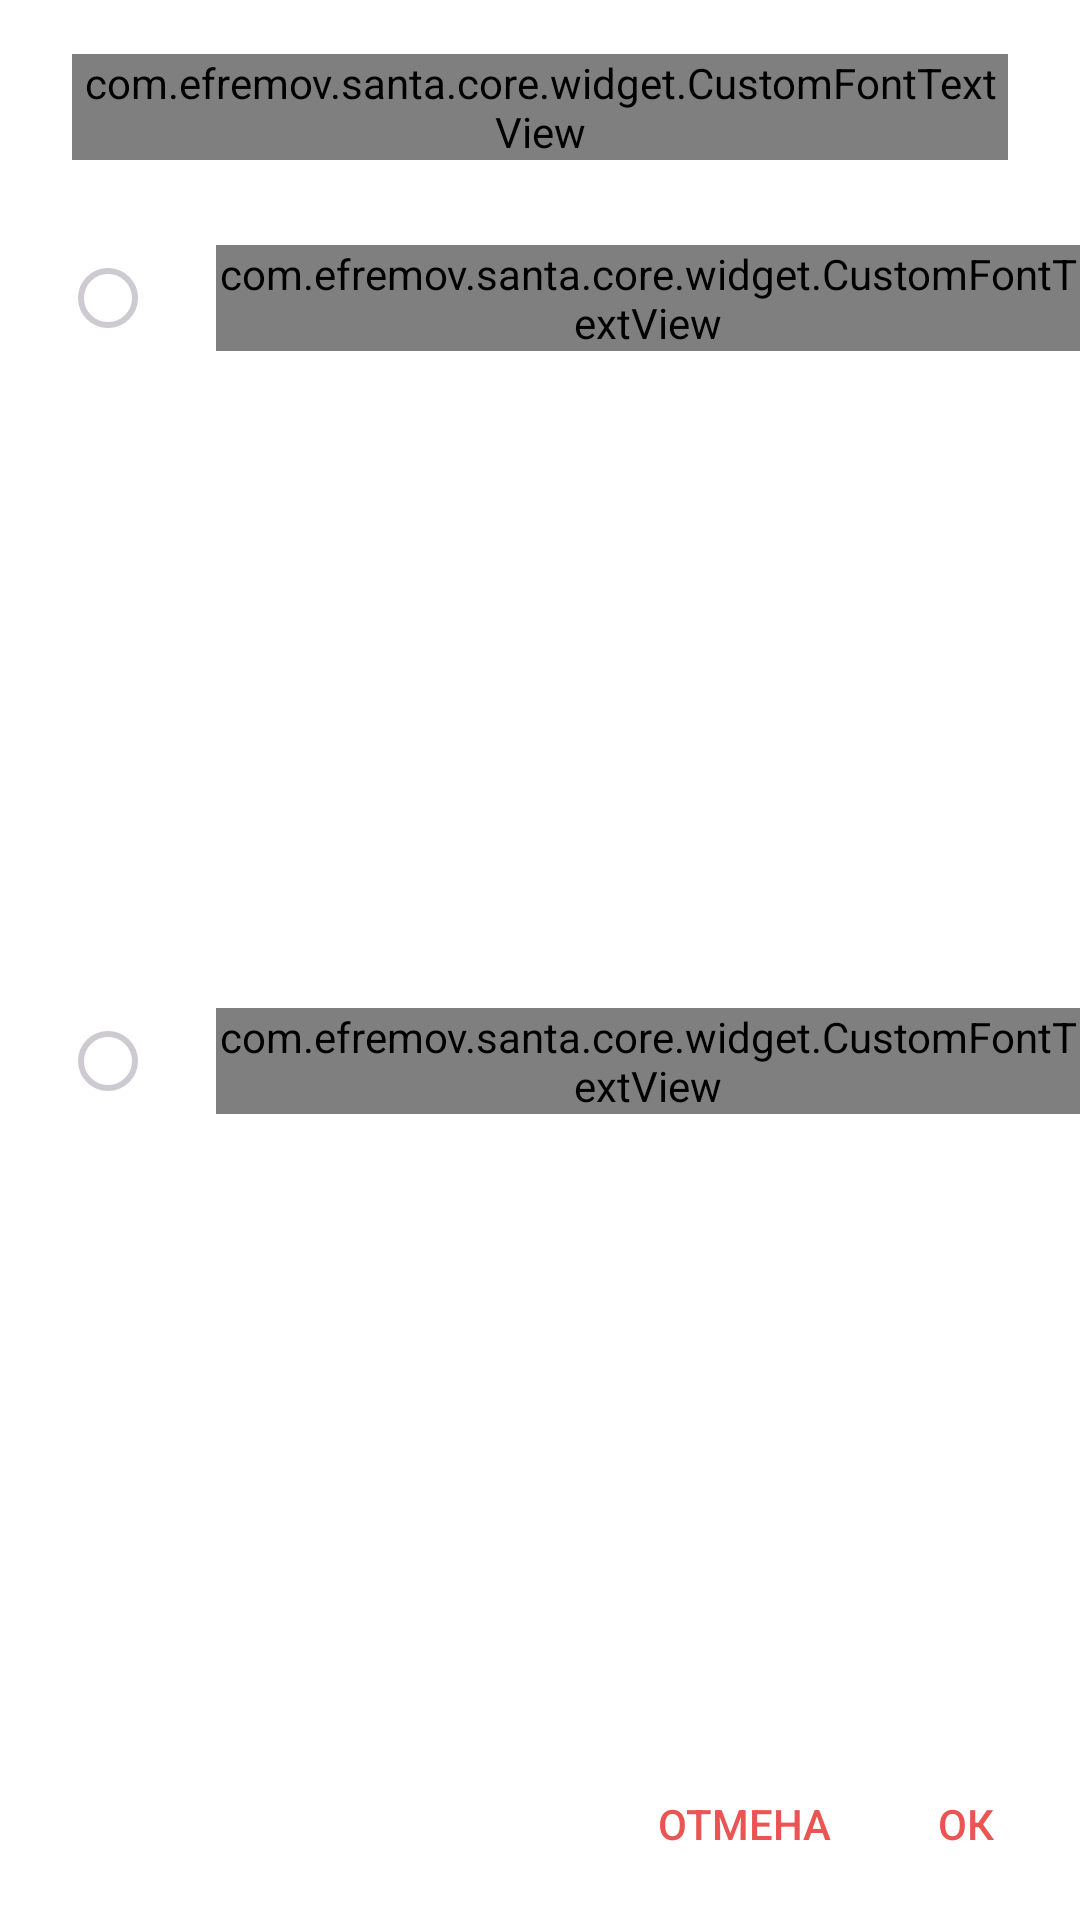

Icons on this 1080×1920 Android screen, each with its box as (x1, y1, x2, y2):
radio off: (78, 268, 138, 328), (78, 1031, 138, 1091)
